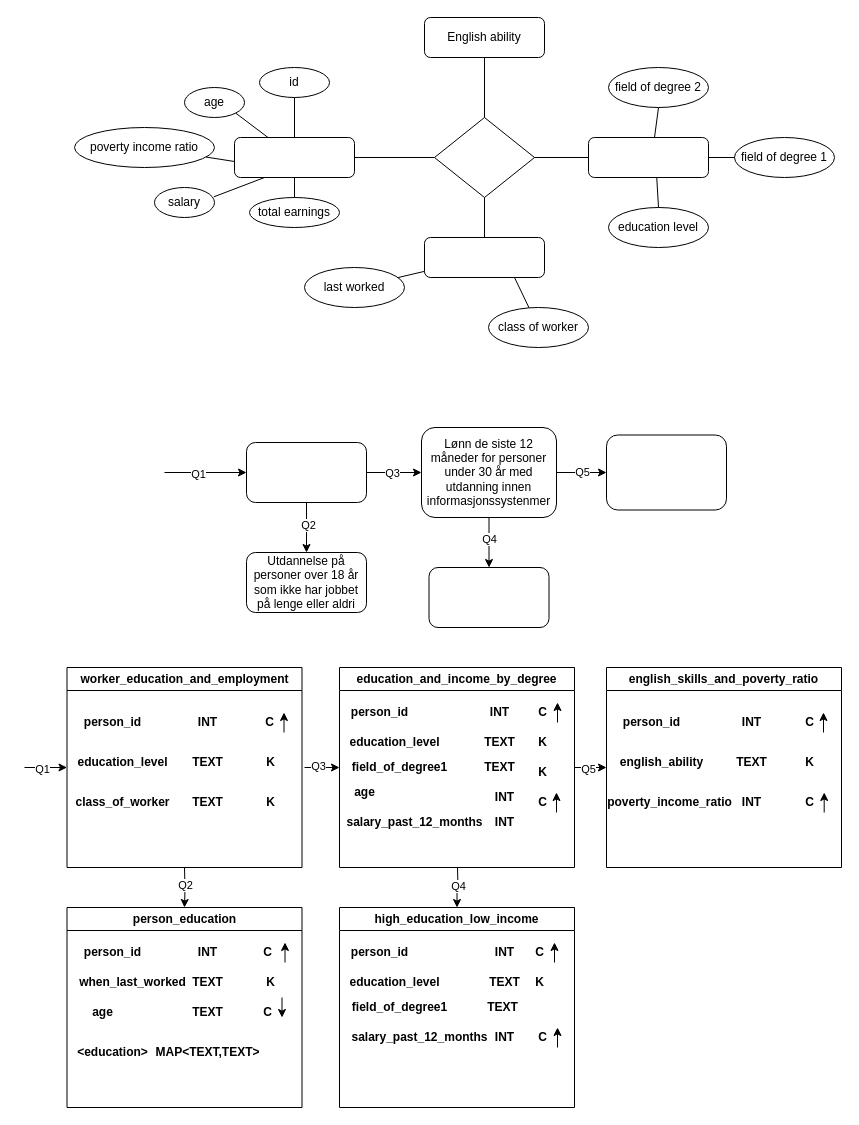
The diagram is 859 pixels wide and 1125 high, and some of its shapes have lost their labels. The centre of each missing label's shape, as x and y in pixels:
"Education" goes at point 648,157.
"has" goes at point 484,157.
"Person" goes at point 294,157.
"Personer med høy utdanning men lav lønn" goes at point 488,597.
"Personer som har lave engelskkunnskaper og lever under fattigdomsgrensen" goes at point 666,472.
"Utdanningsnivå på personer som er selvstendig næringsdrivende" goes at point 306,472.
"Work history" goes at point 484,257.
